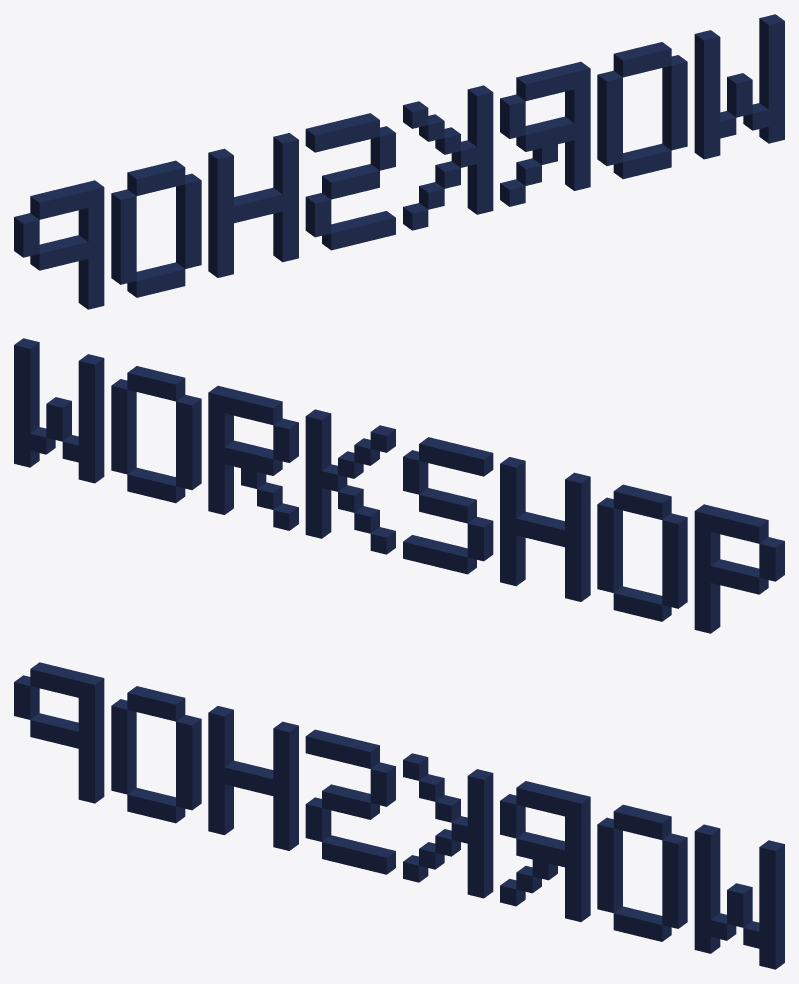
The model's file is ws_sign.glb.
3 renders of one model, top to bottom at view 1: azimuth 30°, elevation 25°; view 2: azimuth 150°, elevation 25°; view 3: azimuth 330°, elevation 25°, orthographic.
Parts seen in each view (by area): view 1: sign; view 2: sign; view 3: sign.
Part boxes in pixels (bbox=[...]): sign: bbox=[14, 14, 784, 309]; sign: bbox=[14, 338, 784, 633]; sign: bbox=[14, 662, 784, 969].
Bounding box in the file's own units: 9.4 × 1.4 × 0.2.
